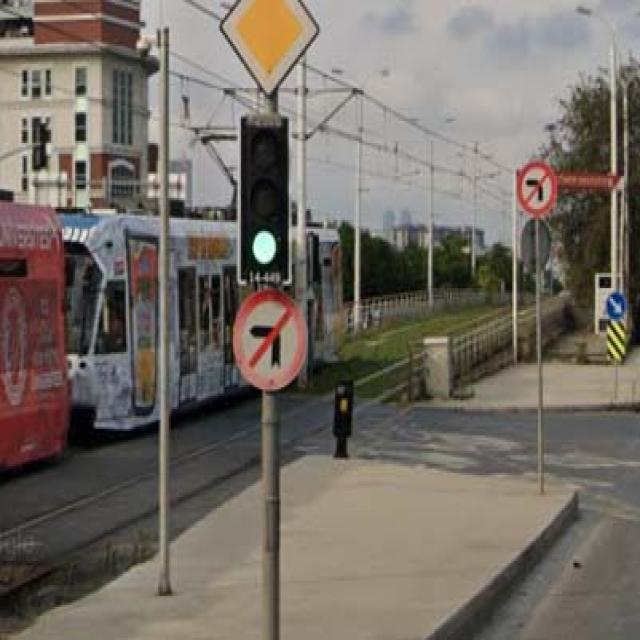soladonulmez: (231, 290, 305, 392), (517, 160, 557, 216)
yesil: (240, 112, 290, 284)
